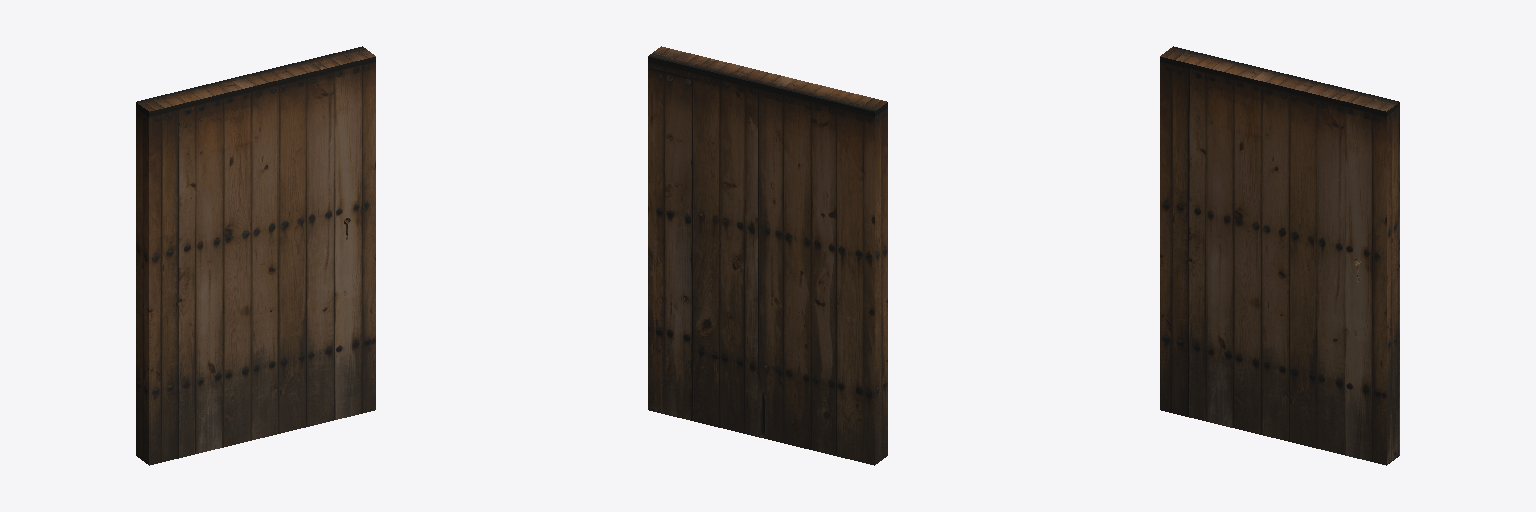
3 renders of one model, left to right at view 1: azimuth 30°, elevation 25°; view 2: azimuth 150°, elevation 25°; view 3: azimuth 330°, elevation 25°, orthographic.
Size of the model in its own units: 101 by 150 by 10.51.
Materials: 1 (1 with a texture image).